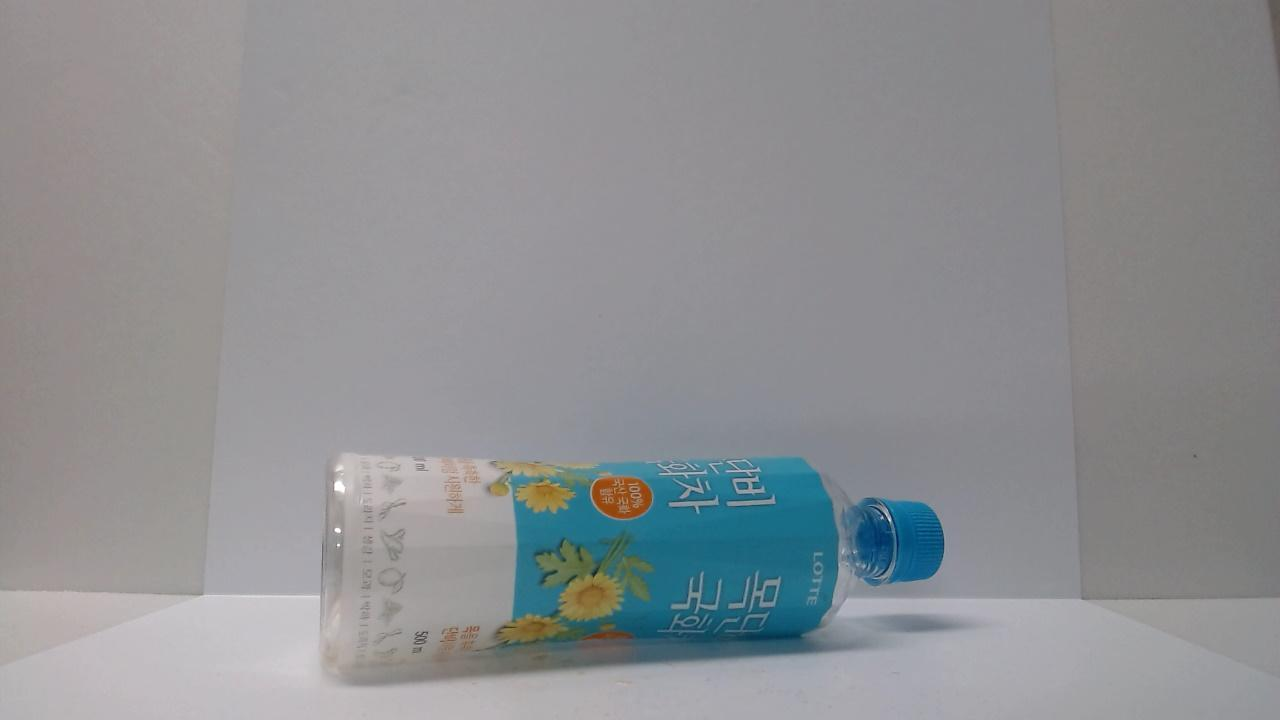bottle: (310, 435, 952, 685)
